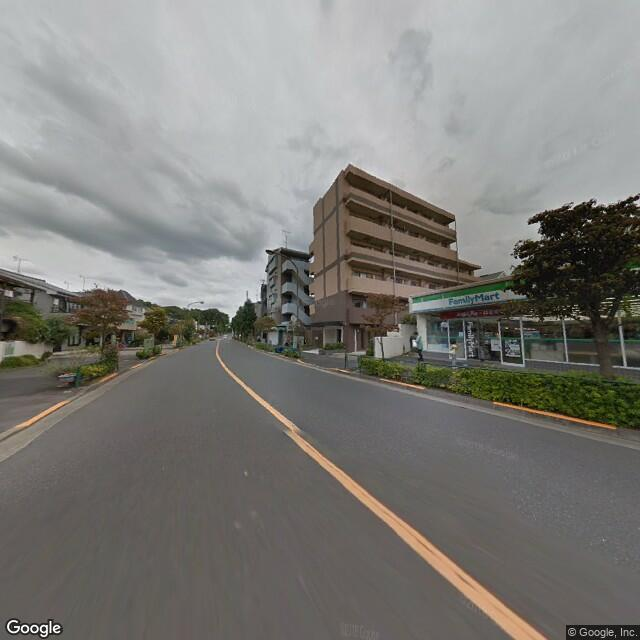family_mart: (406, 274, 527, 319), (445, 287, 501, 309)
